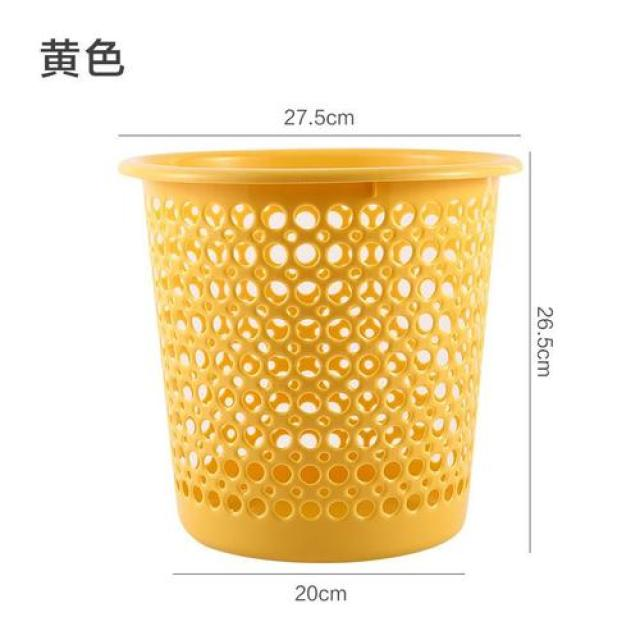dustbin: (115, 144, 526, 564)
